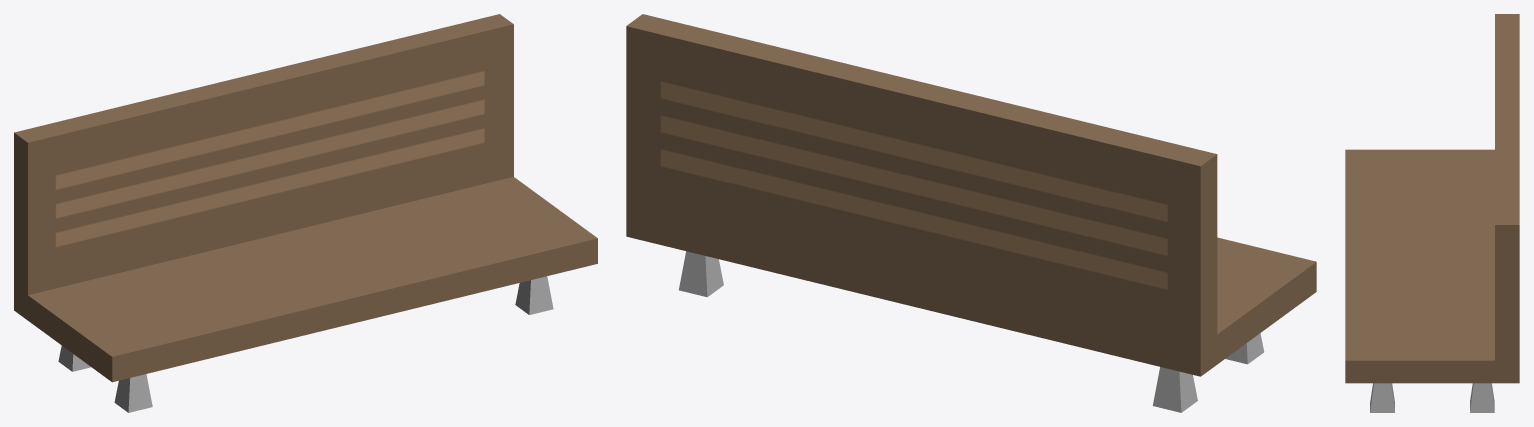
Rendered from props-bench-2.glb.
3 views of the same model, side by side, from view 1: azimuth 30°, elevation 25°; view 2: azimuth 150°, elevation 25°; view 3: azimuth 270°, elevation 25° (orthographic). The views are drawn at different scales.
Parts seen in each view (by area): view 1: model; view 2: model; view 3: model.
Boxes of the visible parts, bbox=[...] form: model: bbox=[14, 14, 597, 412]; model: bbox=[626, 14, 1316, 412]; model: bbox=[1345, 14, 1519, 412].
Bounding box in the file's own units: 4 × 1.78 × 1.4.
Materials: 1 (1 with a texture image).
